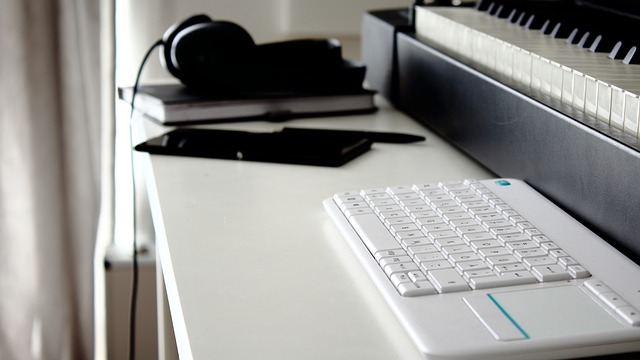headphones: (159, 13, 344, 91)
